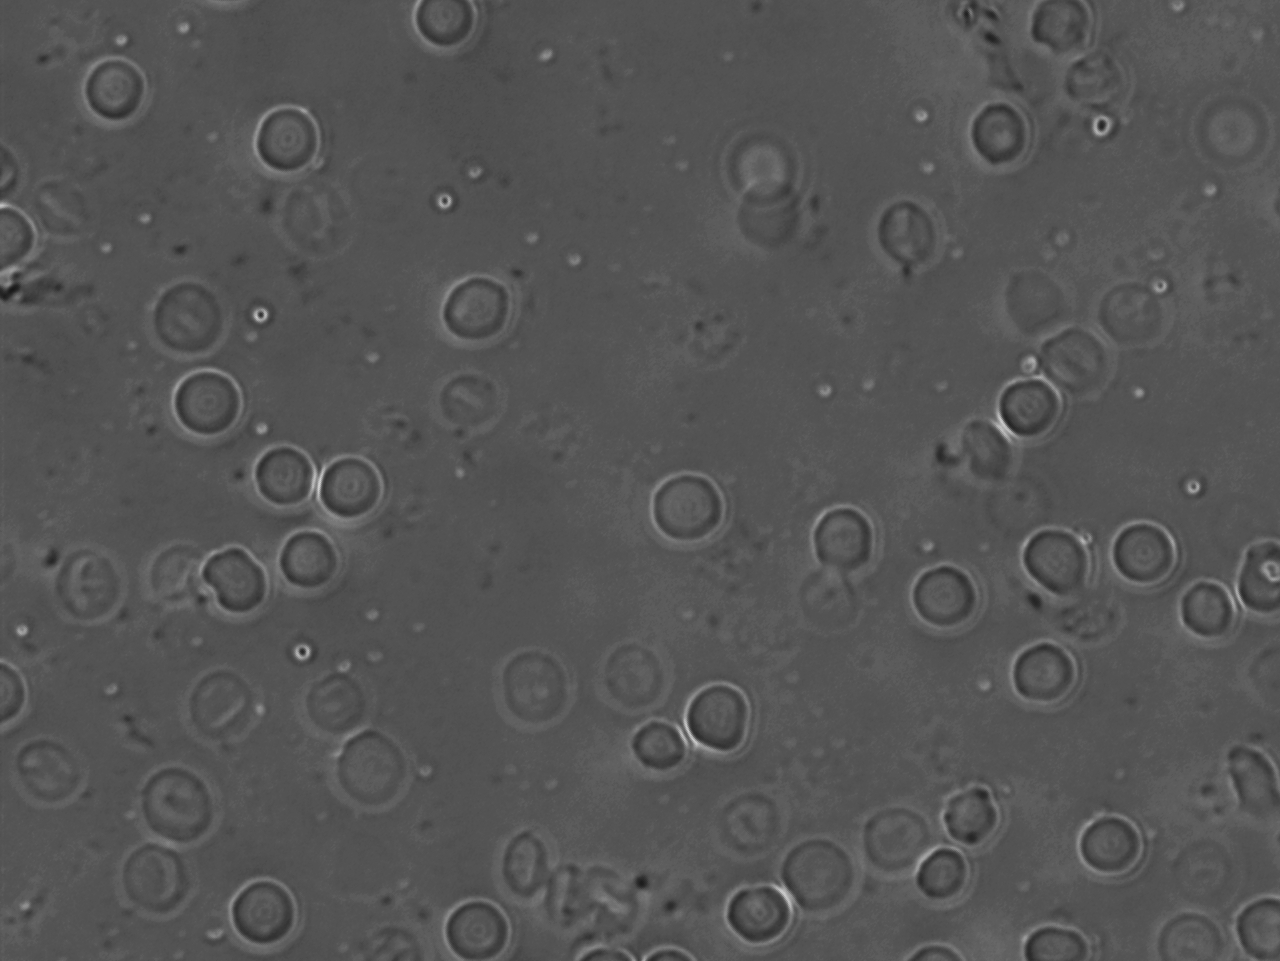depth:0: (240, 90, 338, 190), (641, 458, 739, 556), (667, 671, 769, 762), (425, 261, 526, 352), (187, 533, 285, 623), (1097, 503, 1191, 595), (163, 359, 258, 447), (212, 869, 310, 955), (1009, 515, 1100, 607), (72, 50, 168, 137), (715, 865, 809, 953), (985, 363, 1080, 449), (311, 443, 397, 532), (1066, 796, 1155, 880), (901, 552, 983, 642), (959, 92, 1042, 179), (802, 496, 883, 582), (244, 433, 329, 516), (268, 520, 354, 598), (776, 832, 857, 911), (1160, 573, 1240, 652), (1001, 632, 1083, 709), (433, 888, 519, 961), (621, 710, 696, 788), (915, 838, 987, 911), (1008, 921, 1087, 961)
